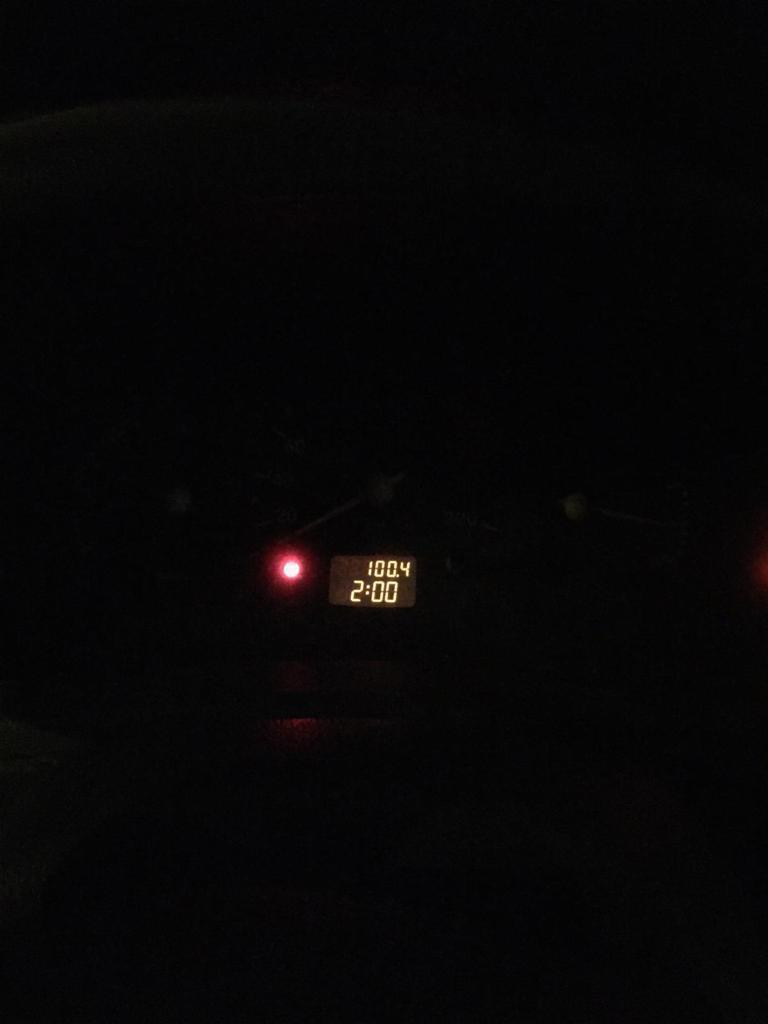,: (396, 572, 401, 578)
0: (370, 579, 384, 603), (385, 580, 398, 603), (386, 559, 396, 578), (374, 559, 384, 577)
1: (368, 559, 373, 577)
2: (349, 578, 364, 603)
4: (400, 560, 410, 576)
X: (365, 583, 370, 597)
odometer: (323, 551, 420, 610)
